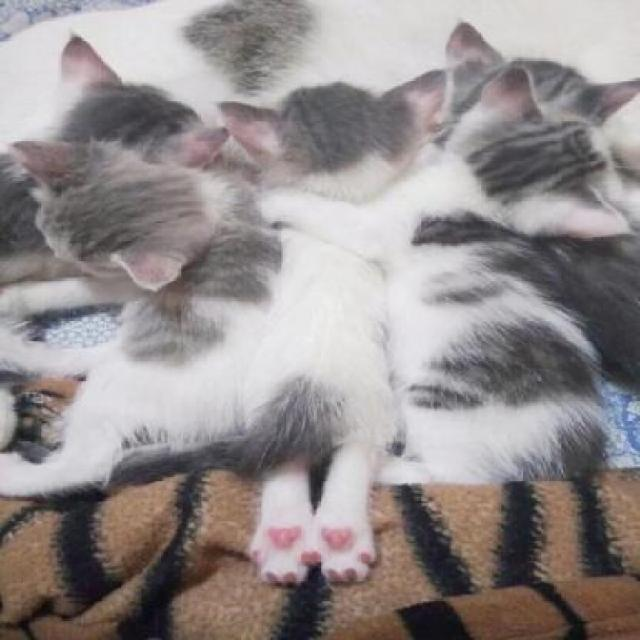cat: (391, 163, 620, 514), (235, 223, 418, 586), (186, 66, 488, 216), (0, 136, 252, 310), (444, 70, 640, 276)
